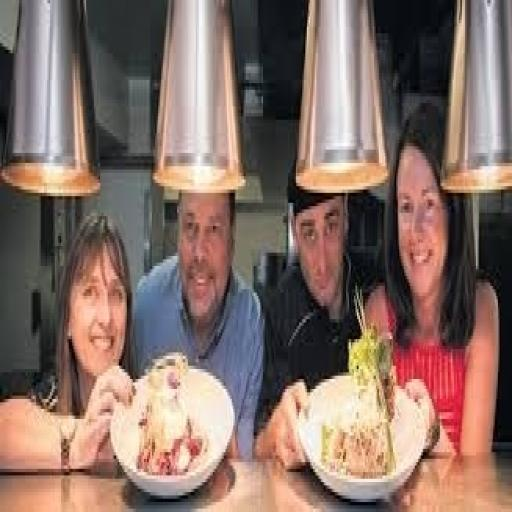eating: (3, 103, 501, 479)
